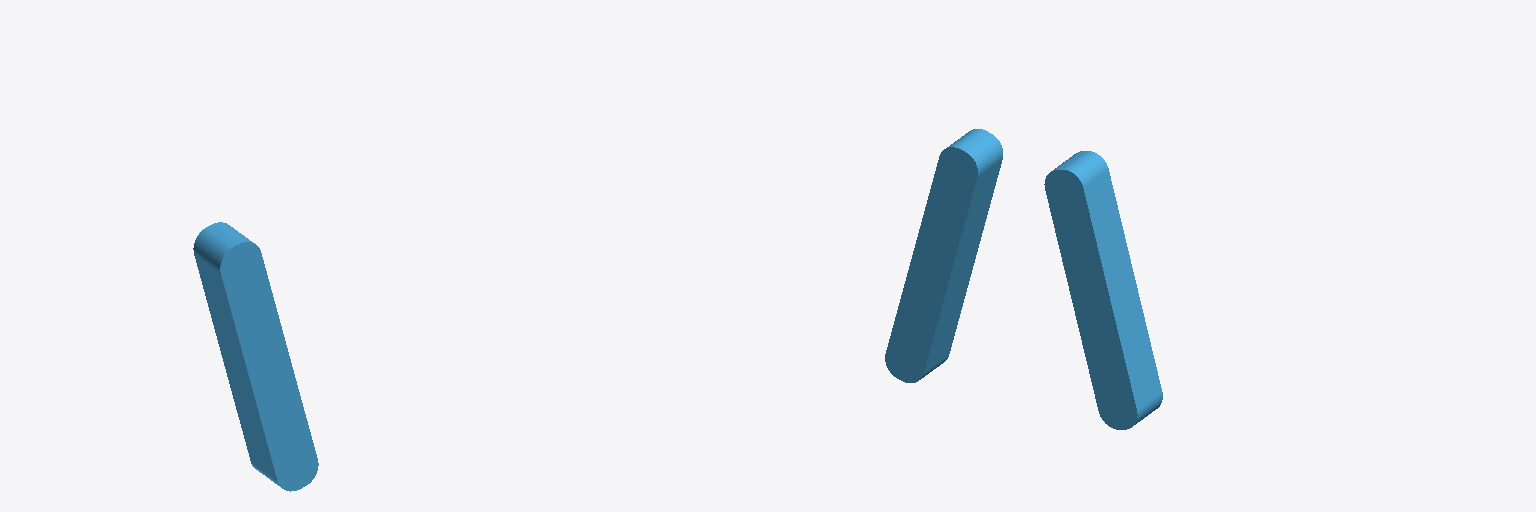
URDF robot description (AMBER):
<?xml version="1.0" ?>
<!-- =================================================================================== -->
<!-- |    This document was autogenerated by xacro from amber.xacro                    | -->
<!-- |    EDITING THIS FILE BY HAND IS NOT RECOMMENDED                                 | -->
<!-- =================================================================================== -->
<robot name="AMBER">
  <!--
  <link name="hip_module">
    <visual>
      <origin rpy="0 0 0" xyz="0 0 0.0615"/>
      <geometry>
        <box size="0.0402 0.05 0.123"/>
      </geometry>
      <material name="omni/Blue"/>
    </visual>
    <collision>
      <origin rpy="0 0 0" xyz="0 0 0.0615"/>
      <geometry>
        <box size="0.0402 0.05 0.123"/>
      </geometry>
    </collision>
    <inertial>
      <origin rpy="0 0 0" xyz="0 0 0.0615"/>
      <mass value="0.190421352"/>
      <inertia ixx="0.000279744834534" ixy="0" ixz="0" iyy="0.000265717763008" iyz="0" izz="6.53151584738e-05"/>
    </inertial>
  </link>
-->
  <link name="head">
    <visual>
      <origin rpy="0 0 0" xyz="0.7 1 1.5"/>
      <geometry>
        <box size="0 0 0"/>
      </geometry>
    </visual>
    <inertial>
      <origin rpy="0 0 0" xyz="0 0 0.0615"/>
      <mass value="0.190421352"/>
      <inertia ixx="0.000279744834534" ixy="0" ixz="0" iyy="0.000265717763008" iyz="0" izz="6.53151584738e-05"/>
    </inertial>
  </link>
  <!--
    <origin rpy = "0 0 0" xyz = "${x} ${y} ${z}"/>
  -->
  <!-- UPPER LEG -->
  <link name="upper_leg 0">
    <visual>
      <origin rpy="0 1.3089969389957472 0" xyz="0 0 1"/>
      <geometry>
        <!-- <box size="0.0356 0.05 0.317"/> -->
        <mesh filename="package://amber_sim/stl/UPLEG.stl"/>
      </geometry>
    </visual>
    <collision>
      <origin rpy="0 0 0" xyz="0 0 0.1585"/>
      <geometry>
        <box size="0.0356 0.05 0.317"/>
      </geometry>
    </collision>
    <inertial>
      <origin rpy="0 0 0" xyz="0 0 0.1585"/>
      <mass value="0.29302326"/>
      <inertia ixx="0.00251484771035" ixy="0" ixz="0" iyy="0.00248474836108" iyz="0" izz="9.19936757328e-05"/>
    </inertial>
  </link>
  <joint name="knee_joint 0" type="revolute">
    <parent link="upper_leg 0"/>
    <child link="lower_leg 0"/>
    <dynamics damping="3.0" friction="0.3"/>
    <limit effort="30.0" lower="-1.57079632679" upper="1.57079632679" velocity="5.0"/>
    <!-- <origin rpy="0 0 0" xyz="0 0 0.317"/> -->
    <axis xyz="0 1 0"/>
  </joint>
  <!-- LOWER LEG -->
  <link name="lower_leg 0">
    <visual>
      <origin rpy="0 0 0" xyz="0.41270514777154516 -0.15 0.7084403456920103"/>
      <geometry>
        <!-- <box size="0.0356 0.05 0.202"/> -->
        <mesh filename="package://amber_sim/stl/LOWLEG.stl"/>
      </geometry>
    </visual>
    <collision>
      <origin rpy="0 0 0" xyz="0 0 0.101"/>
      <geometry>
        <box size="0.0356 0.05 0.202"/>
      </geometry>
    </collision>
    <inertial>
      <origin rpy="0 0 0" xyz="0 0 0.101"/>
      <mass value="0.21931466"/>
      <inertia ixx="0.000791433503053" ixy="0" ixz="0" iyy="0.000768905501178" iyz="0" izz="6.88531064581e-05"/>
    </inertial>
  </link>
  <joint name="hip_joint 0" type="revolute">
    <parent link="head"/>
    <child link="upper_leg 0"/>
    <dynamics damping="3.0" friction="0.3"/>
    <limit effort="30.0" lower="-1.57079632679" upper="1.57079632679" velocity="5.0"/>
    <origin rpy="0 0 0" xyz="0 0 0.123"/>
    <axis xyz="0 1 0"/>
  </joint>
</robot>

--- What the picture shows (computed from the rendered views, not written in the file) ---
The picture shows the robot from 3 angles, left to right: view 1: azimuth 30°, elevation 25°; view 2: azimuth 150°, elevation 25°; view 3: azimuth 330°, elevation 25°; orthographic projection.
Model AMBER with 3 links and 2 joints (2 revolute), rooted at head, posed all joints at 0.
Visible links, largest first — view 1: upper_leg 0; view 2: upper_leg 0; view 3: upper_leg 0.
Link boxes in pixels (x1,y1,x2,y2): upper_leg 0: (193,222,318,491); upper_leg 0: (885,129,1002,382); upper_leg 0: (1044,151,1162,429).
Bounding box of the posed robot: 0.8443 × 1.07 × 0.7435 m (x, y, z).
1 mesh visuals loaded from 2 distinct referenced files (1 binary STL); not drawn: 1 (reference not matched to a file when rendering).